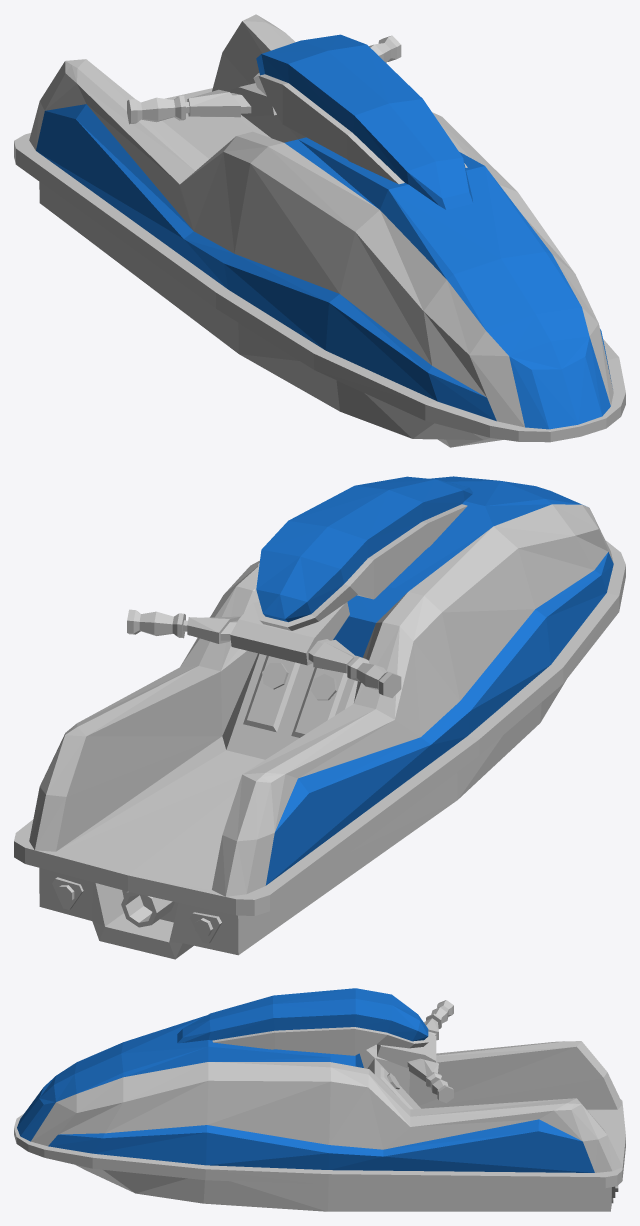
File: SM_hydrobike.fbx
3 views of the same model, one above another, from view 1: azimuth 30°, elevation 25°; view 2: azimuth 150°, elevation 25°; view 3: azimuth 270°, elevation 25° (orthographic). The views are drawn at different scales.
Visible parts, largest first — view 1: Cylinder_19, Cube_18; view 2: Cylinder_19, Cube_18; view 3: Cylinder_19, Cube_18.
Boxes of the visible parts, x1,y1,x2,y2 form: Cylinder_19: (14,14,625,447); Cube_18: (127,34,472,209); Cylinder_19: (14,476,625,959); Cube_18: (127,476,472,698); Cylinder_19: (14,1015,625,1211); Cube_18: (177,988,453,1103).
Bounding box in the file's own units: 97.13 × 97.58 × 282.
